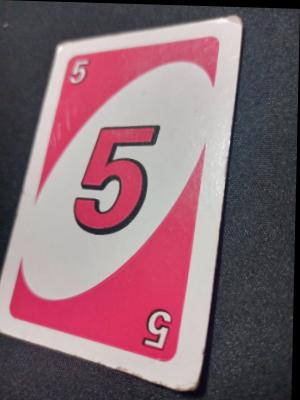num_5: (71, 117, 167, 238)
